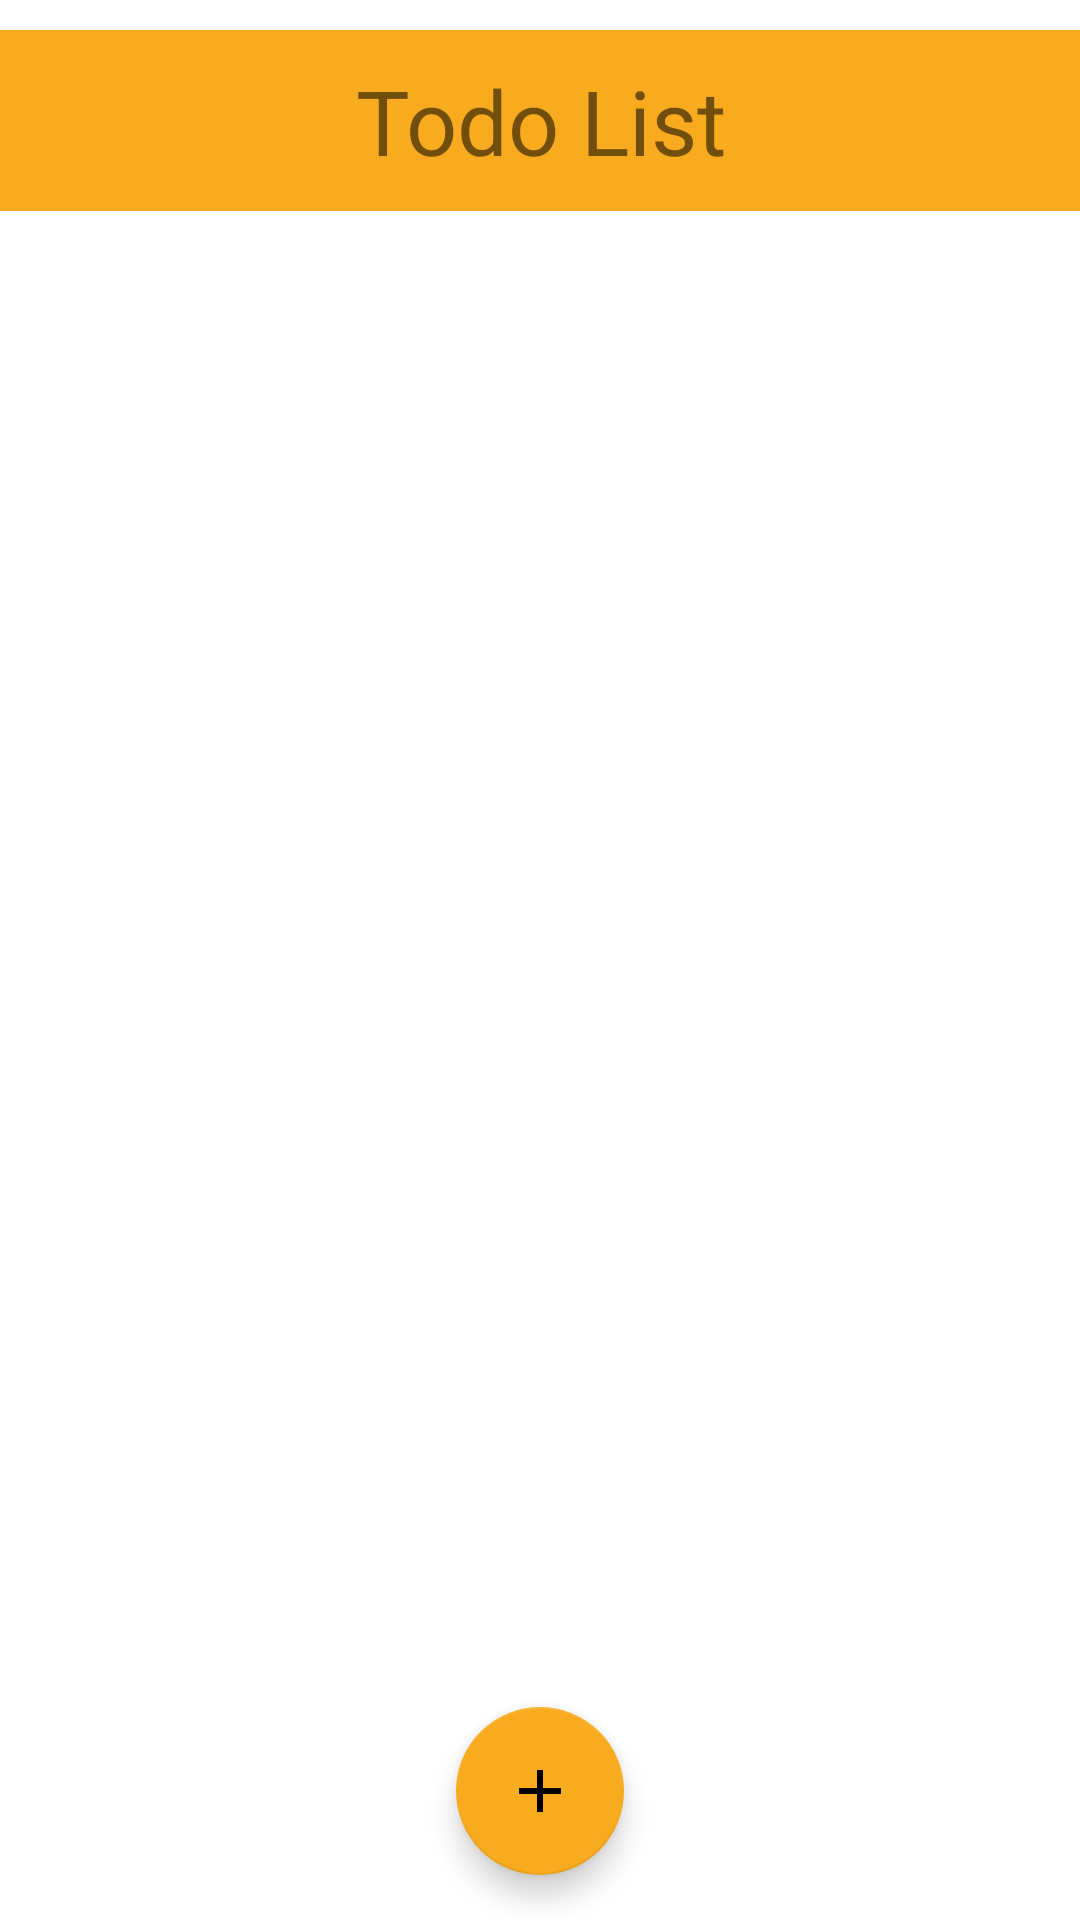

Icon click points for this 1080*1920 phone screenshot, format point (x, y):
Add: point (540, 1791)
